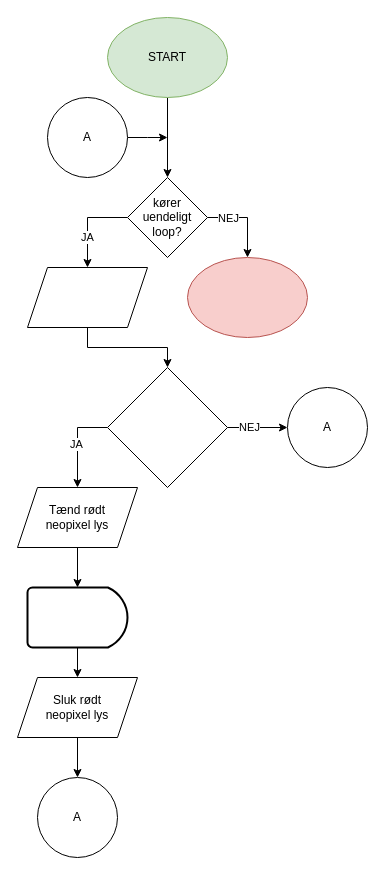
The diagram is 385 pixels wide and 875 high, and some of its shapes have lost their labels. Each missing label, with the box of its shape:
Aflæs IMU data: (26, 266, 148, 328)
Er der kraftig nedbremsning?: (106, 366, 228, 488)
STOP: (186, 256, 308, 338)
Vent 1 sekund: (26, 586, 128, 648)
